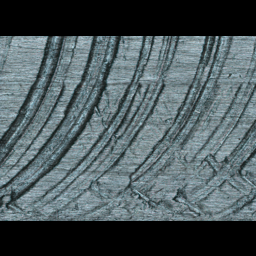d: (2, 37, 256, 220)
